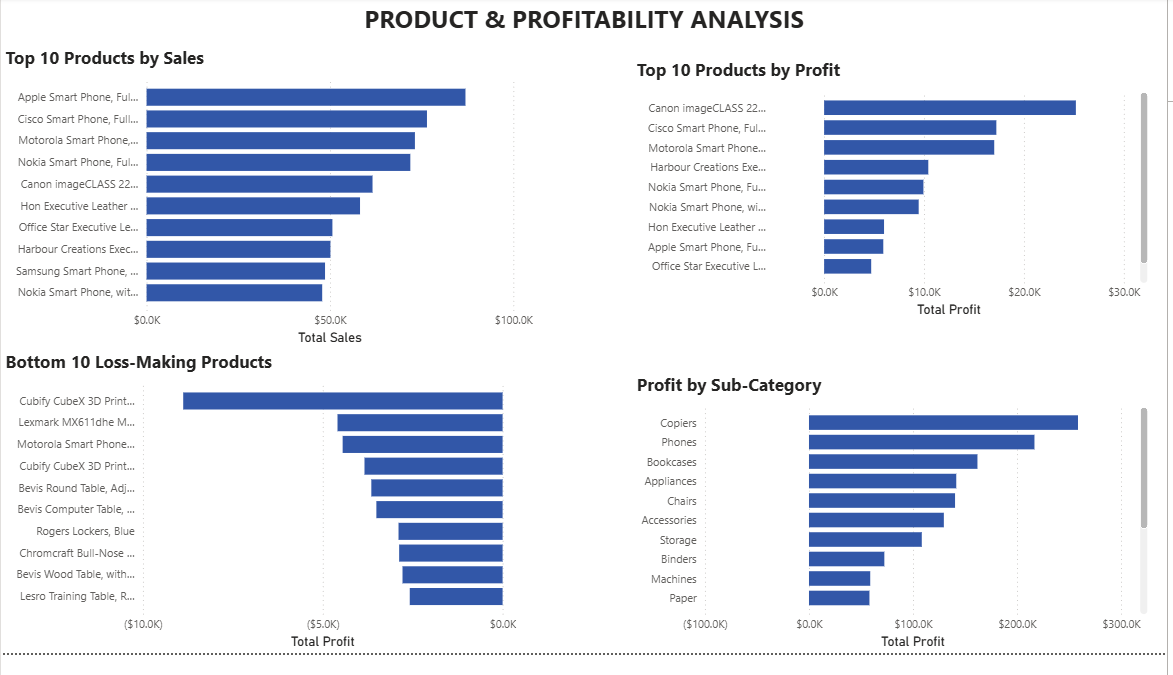

This screenshot's page, from the dashboard's own definition file:
{"tool":"powerbi","page":{"name":"Product / Profitability","canvas":[1280,720],"ordinal":2},"visuals":[{"type":"clusteredBarChart","title":"Top 10 Products by Profit","fields":{"Category":["retail_intelligence retail_sales.product_name"],"Y":["retail_intelligence retail_sales.Total Profit"]},"box":[693,67.2,570.8,304.6],"z":0},{"type":"barChart","title":"Profit by Sub-Category","fields":{"Category":["retail_intelligence retail_sales.sub_category"],"Y":["retail_intelligence retail_sales.Total Profit"]},"box":[673.8,387,590.1,333.4],"z":1000},{"type":"barChart","title":"Bottom 10 Loss-Making Products","fields":{"Category":["retail_intelligence retail_sales.product_name"],"Y":["retail_intelligence retail_sales.Total Profit"]},"box":[0,387,570.8,333.4],"z":2000},{"type":"barChart","title":"Top 10 Products by Sales","fields":{"Category":["retail_intelligence retail_sales.product_name"],"Y":["retail_intelligence retail_sales.Total Sales"]},"box":[0,53.5,603.8,318.4],"z":3000},{"type":"textbox","box":[0,0,1280.3,53.5],"z":3001}]}

Visuals, with their boxes in screenshot pixels (x1, y1, x2, y2), scaled from the page's 1280x720 canvas onto the 1173x675 screenshot:
"Top 10 Products by Profit" clusteredBarChart: 635 63 1158 349
"Profit by Sub-Category" barChart: 617 363 1158 674
"Bottom 10 Loss-Making Products" barChart: 0 363 523 674
"Top 10 Products by Sales" barChart: 0 50 553 349
textbox: 0 0 1172 50
